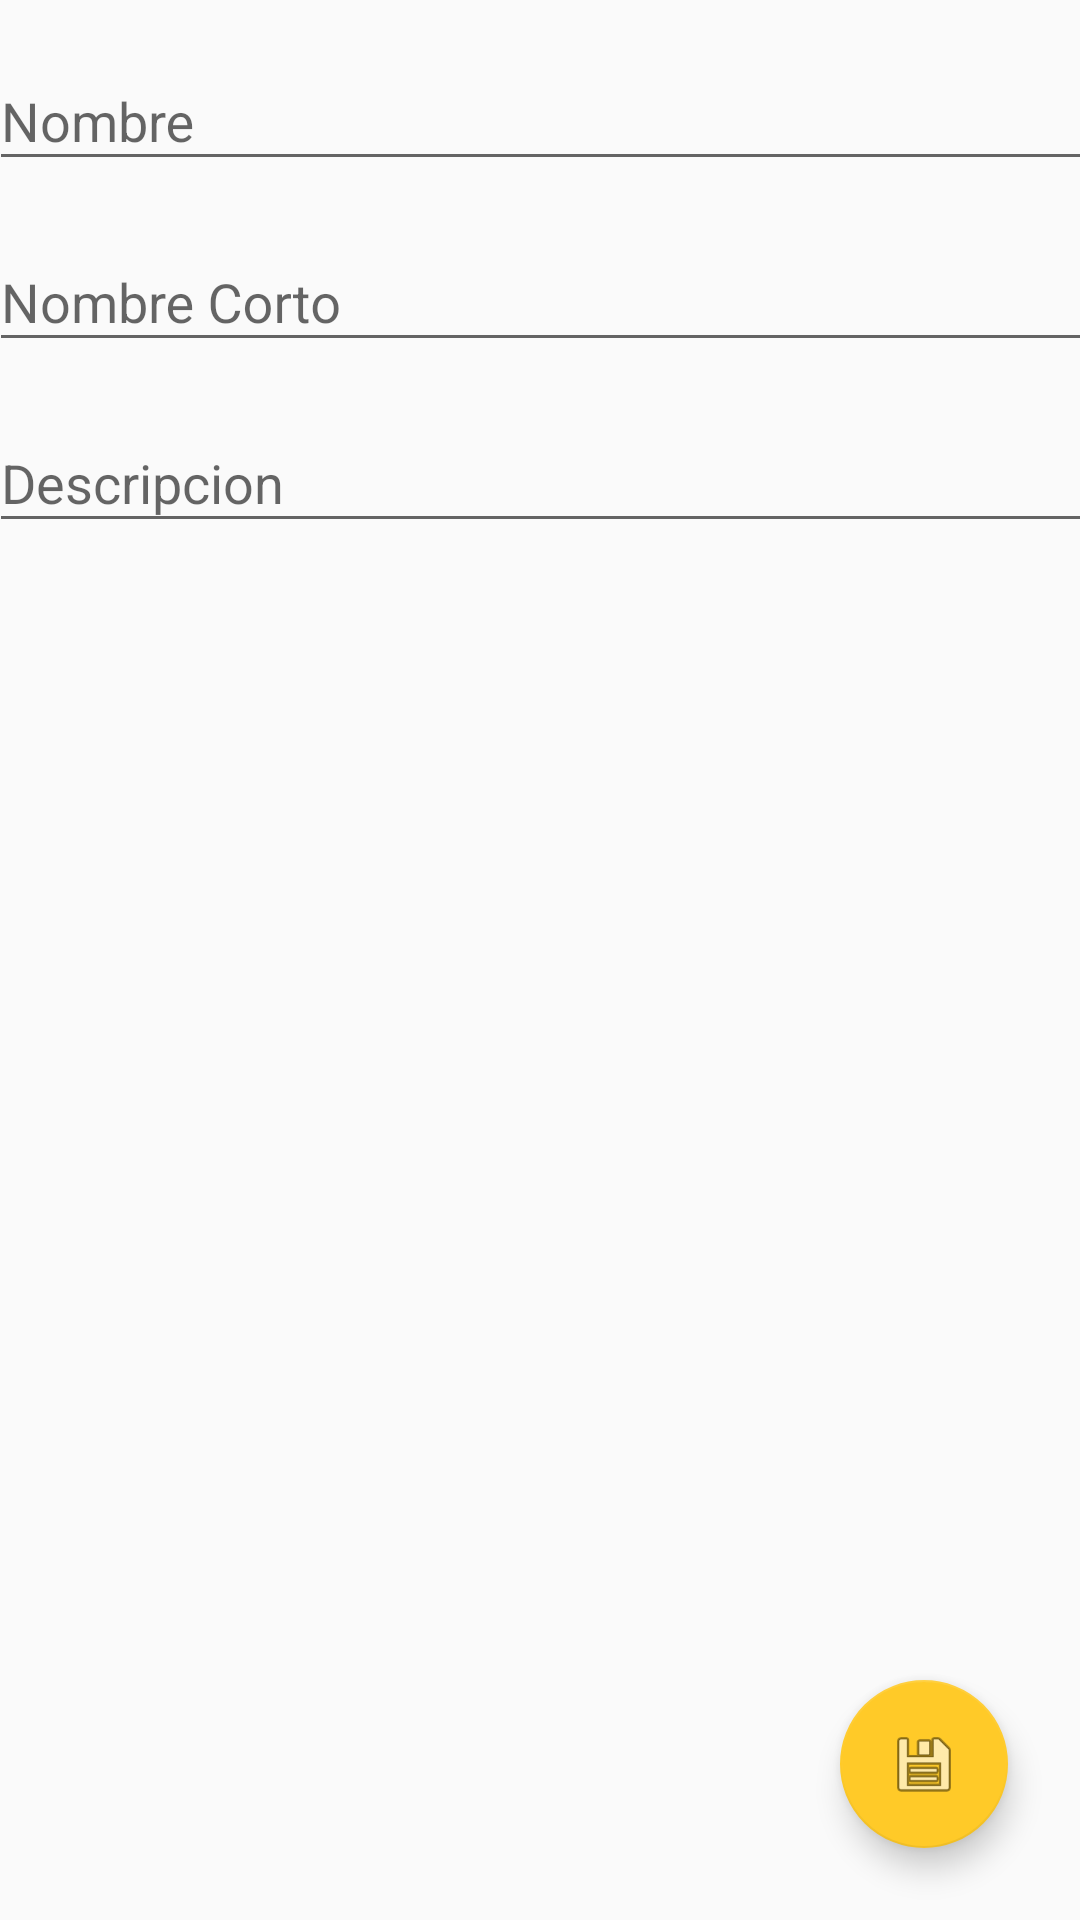

Icon click points for this 1080×1920 phone screenshot, format point (x, y):
save: point (924, 1764)
